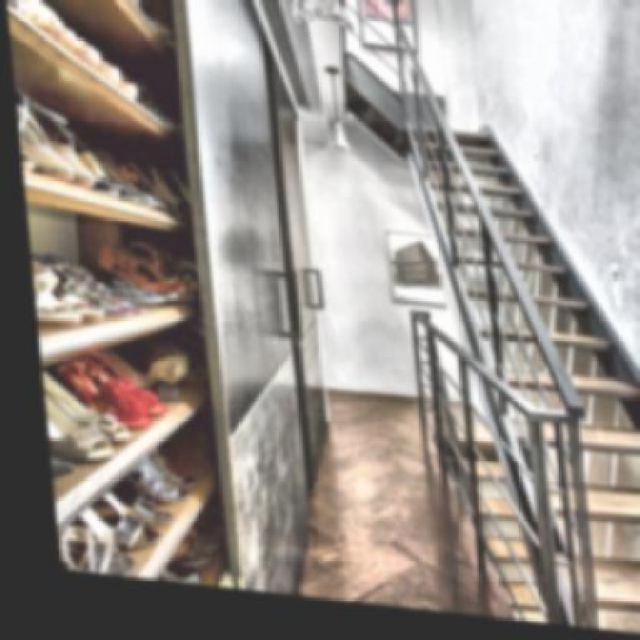stair: (440, 237, 640, 608)
